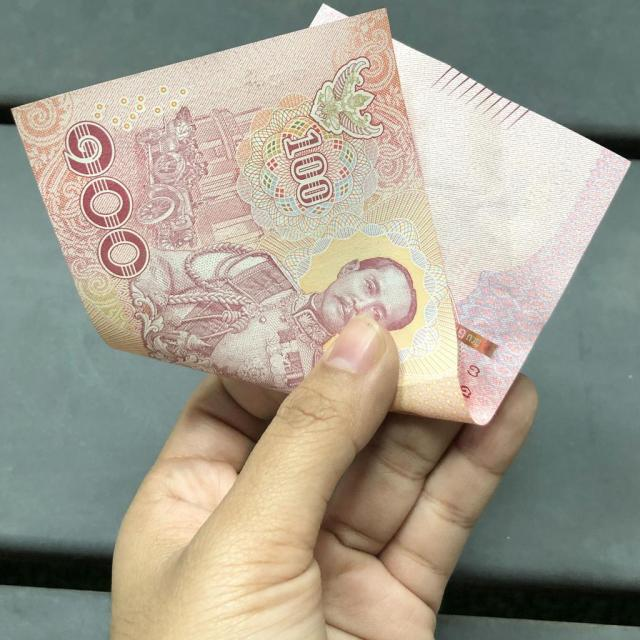THAI100: (14, 5, 629, 424)
